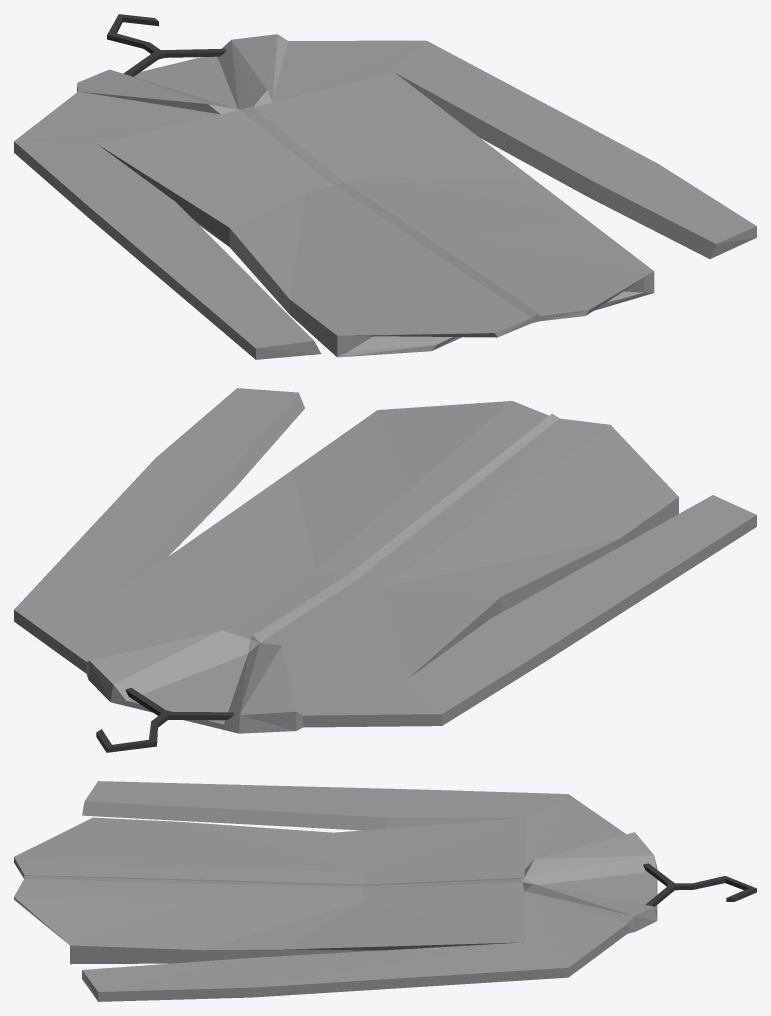
File: shirt.FBX
3 renders of one model, top to bottom at view 1: azimuth 30°, elevation 25°; view 2: azimuth 150°, elevation 25°; view 3: azimuth 270°, elevation 25°, orthographic. The views are drawn at different scales.
Visible parts, largest first — view 1: shirt; view 2: shirt; view 3: shirt.
Boxes of the visible parts, x1=… form: shirt: x1=14, y1=14, x2=756, y2=359; shirt: x1=14, y1=388, x2=756, y2=752; shirt: x1=14, y1=781, x2=756, y2=1001.
Size of the model in its own units: 36.15 by 3 by 53.83.
